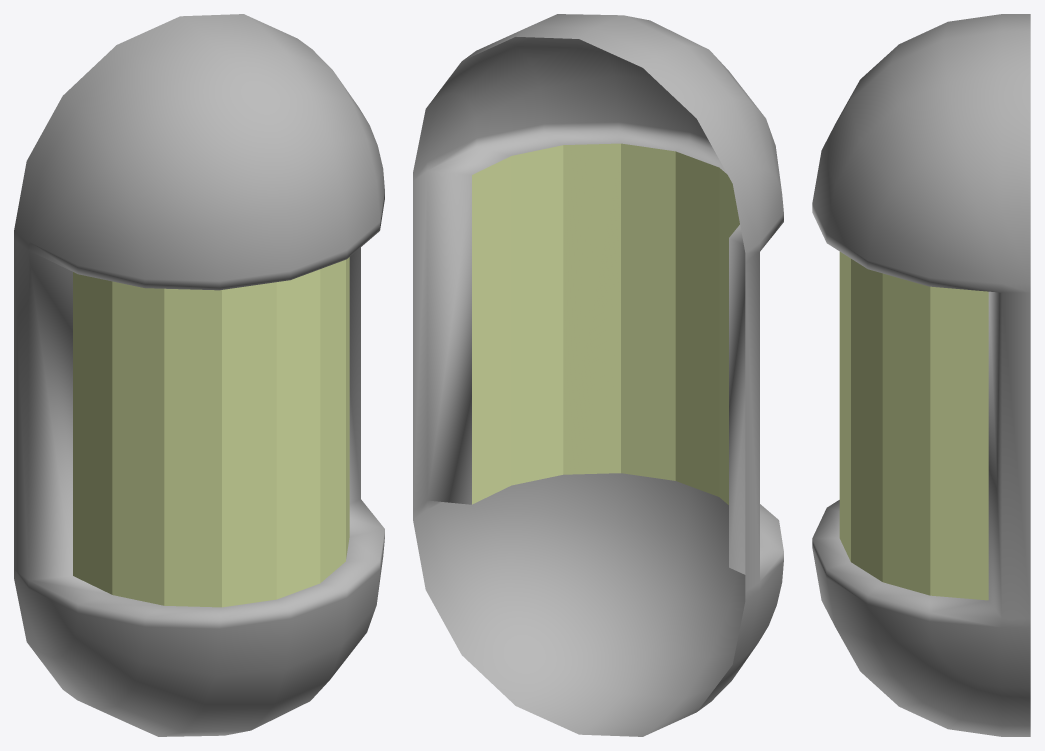
File: wallLamp_matOk.fbx
3 renders of one model, left to right at view 1: azimuth 30°, elevation 25°; view 2: azimuth 150°, elevation 25°; view 3: azimuth 270°, elevation 25°, orthographic.
Visible parts, largest first — view 1: Light_Body, Light_Emitter; view 2: Light_Body, Light_Emitter; view 3: Light_Body, Light_Emitter.
Part boxes in pixels (x1,y1,x2,y2): Light_Body: (14, 14, 384, 736); Light_Emitter: (73, 257, 349, 607); Light_Body: (413, 14, 783, 736); Light_Emitter: (472, 143, 739, 504); Light_Body: (812, 14, 1030, 736); Light_Emitter: (839, 252, 988, 600).
Size of the model in its own units: 200 by 400 by 115.
